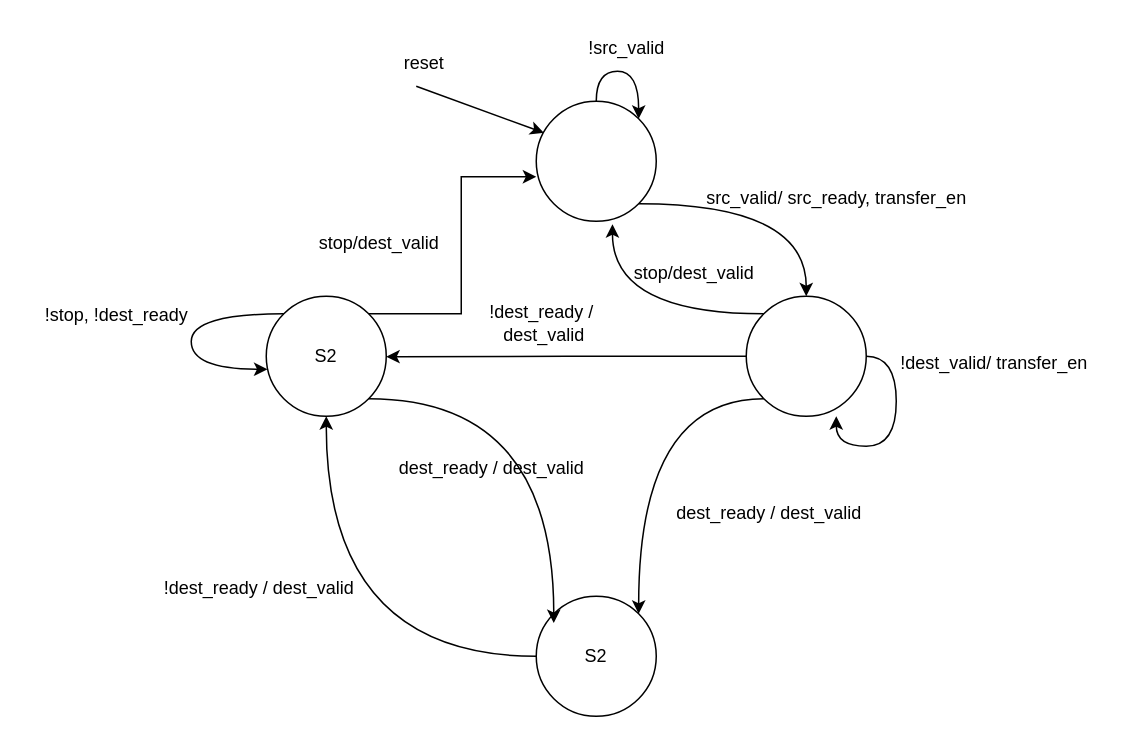
Some shapes in this 1131 by 743 pixel diagram are drawn without their labels. Each missing label, with the box of its shape:
S0: (535, 100, 656, 221)
S1: (745, 295, 866, 416)
